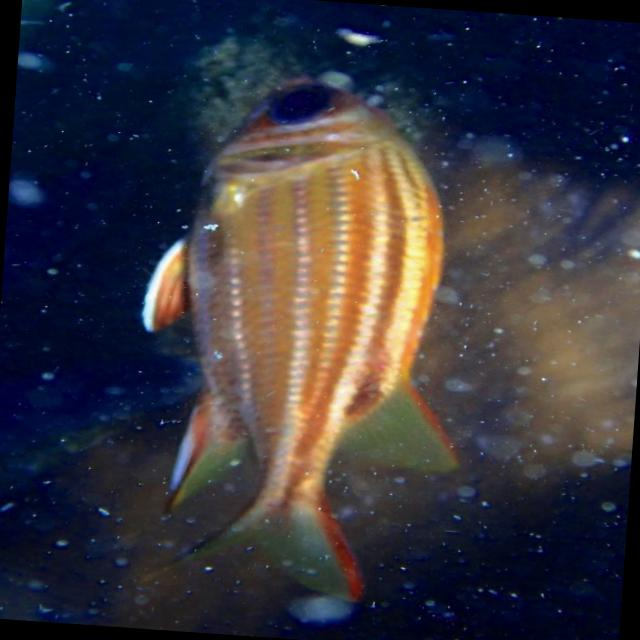Asker Baligi: (107, 54, 524, 621)
